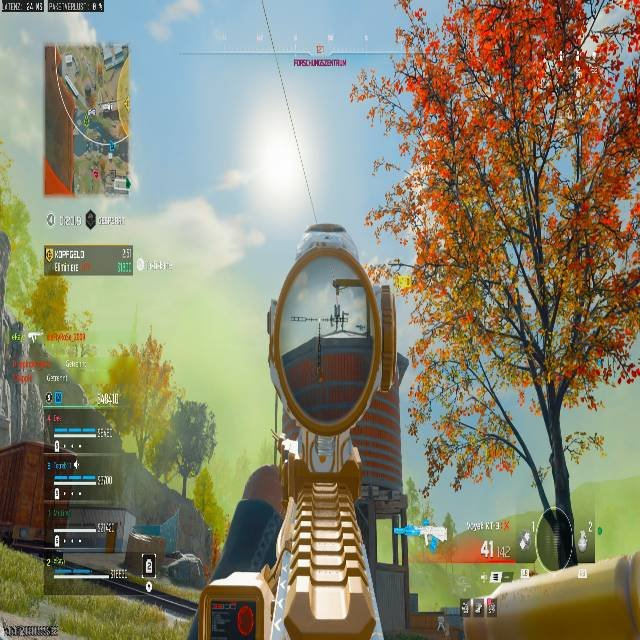player: (331, 302, 346, 333)
